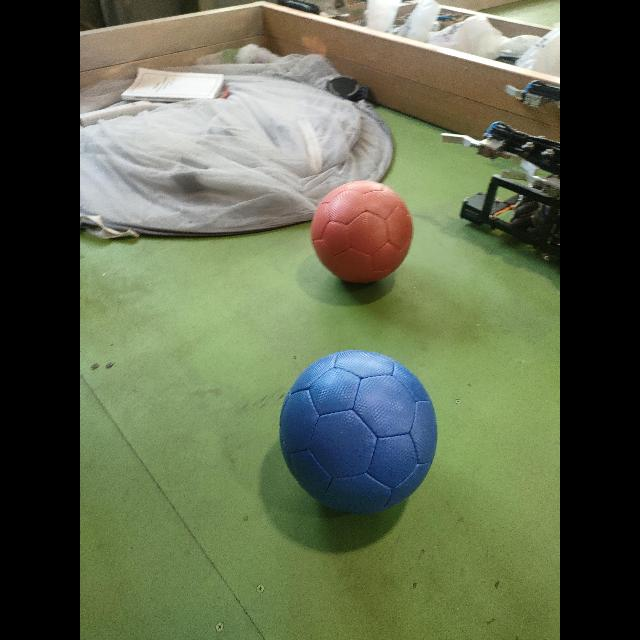B: (278, 351, 438, 518)
R: (310, 181, 414, 287)
